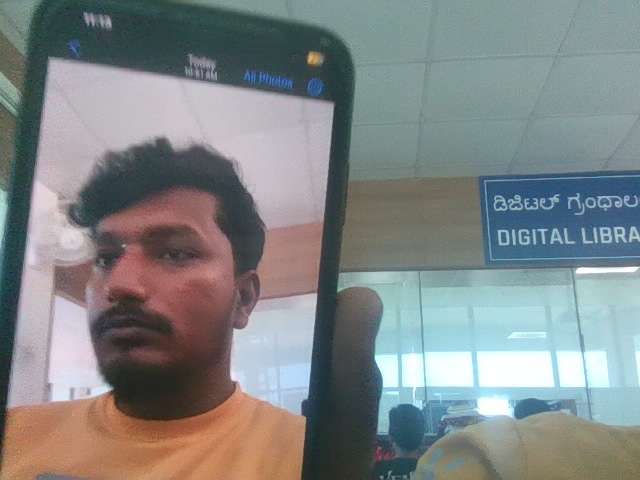fake: (59, 115, 264, 405)
